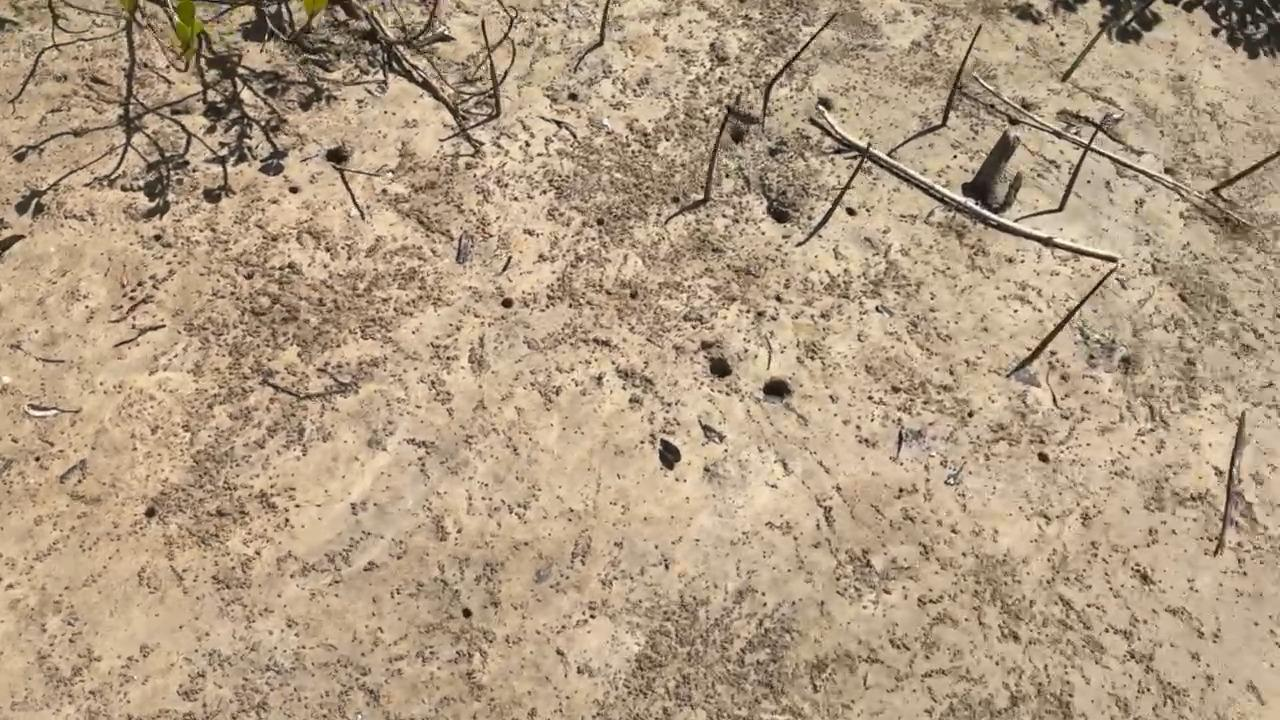Tree: (764, 12, 837, 92), (813, 142, 874, 225), (940, 23, 983, 126), (1057, 124, 1103, 211), (1210, 151, 1280, 193), (1060, 20, 1104, 84), (703, 106, 730, 202), (479, 18, 504, 118), (600, 0, 611, 46)
